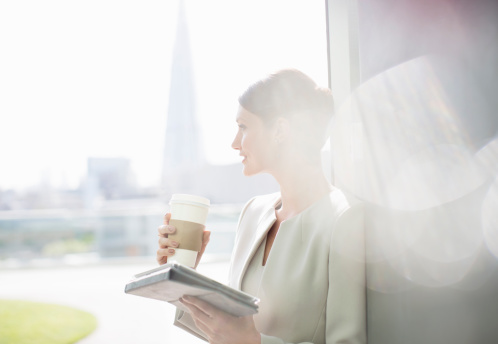em pe: (149, 74, 393, 344)
